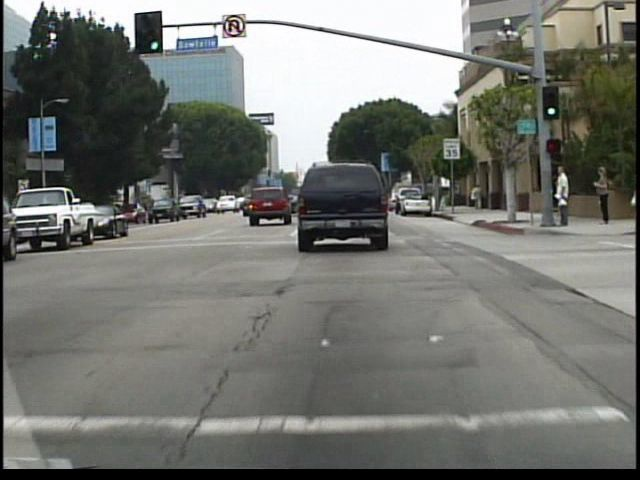person: (547, 162, 569, 235), (592, 163, 613, 227), (468, 181, 485, 217), (426, 185, 438, 214)
